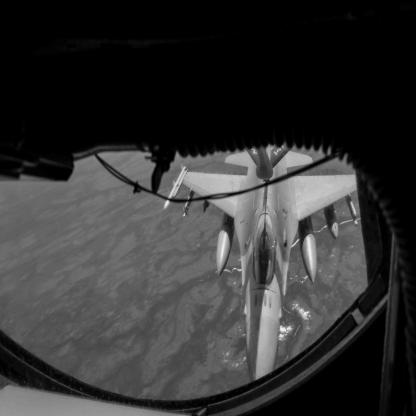F16: (165, 144, 359, 383)
